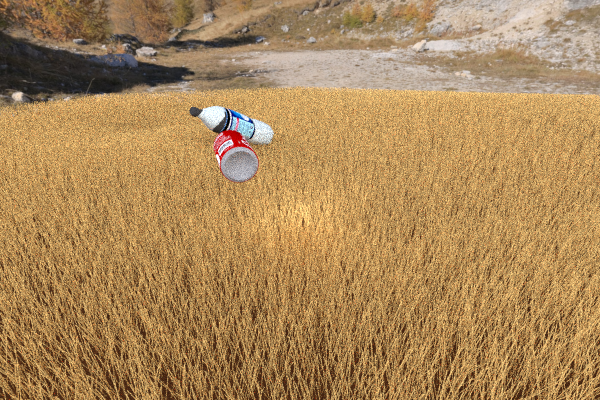Plastic Bottle: (189, 106, 273, 145), (213, 129, 259, 182), (521, 112, 592, 144)
